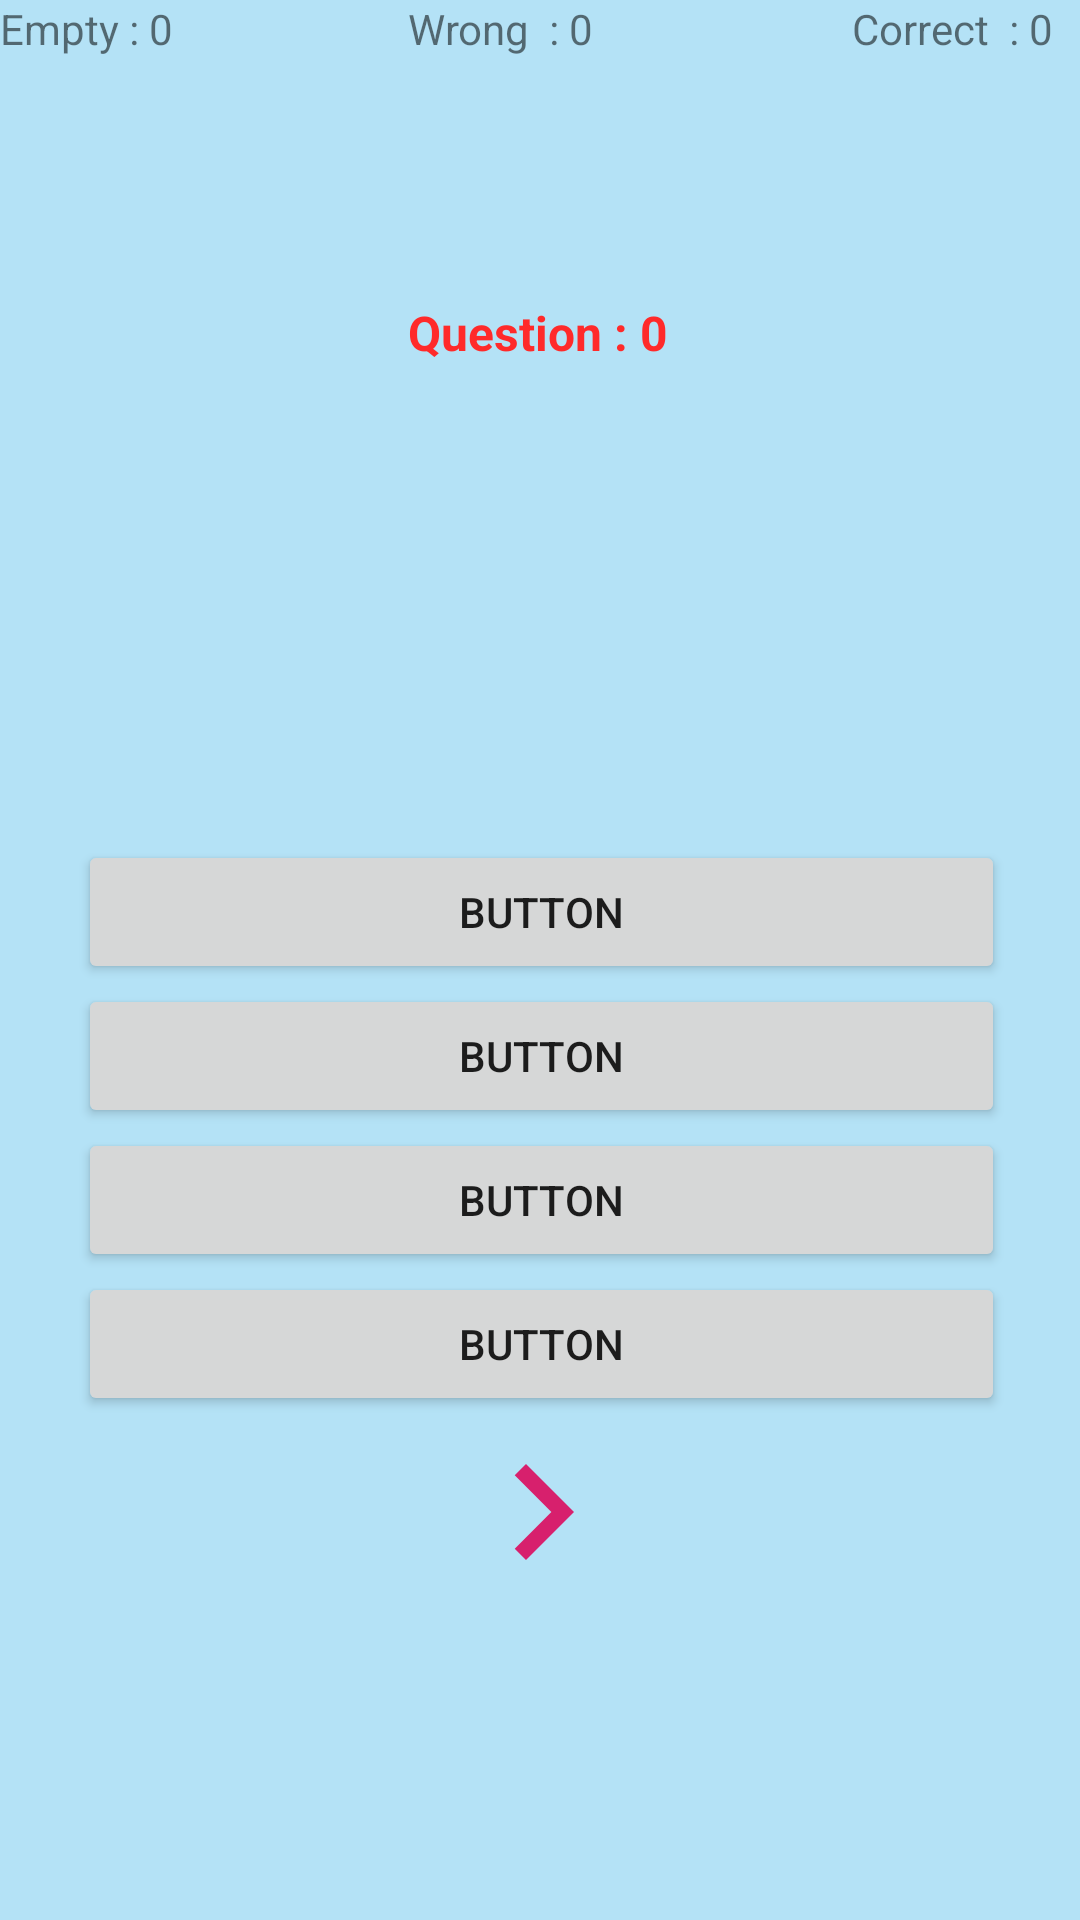

Point at icon controls on the screen. Image size 1080x1920, points as point (x, y).
keyboard arrow right: point (544, 1512)
